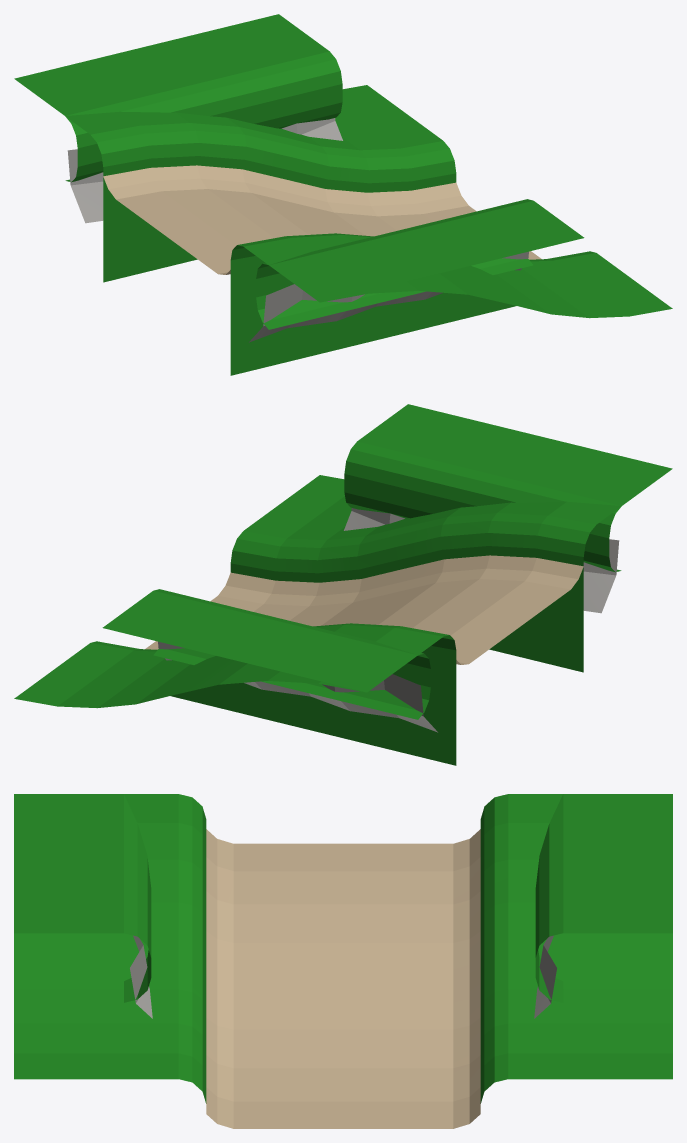
The model's file is Track_Cliff_Incline_Standard_1_Tall_Double.obj.
3 views of the same model, one above another, from view 1: azimuth 30°, elevation 25°; view 2: azimuth 150°, elevation 25°; view 3: azimuth 270°, elevation 25° (orthographic). The views are drawn at different scales.
Parts seen in each view (by area): view 1: Grass, Dirt, Rock; view 2: Grass, Dirt, Rock; view 3: Grass, Dirt, Rock.
Boxes of the visible parts, x1,y1,x2,y2 form: Grass: (14,14,672,375); Dirt: (103,165,541,274); Rock: (67,118,528,342); Grass: (14,404,672,765); Dirt: (145,555,583,664); Rock: (158,508,619,732); Grass: (14,794,672,1103); Dirt: (206,829,480,1128); Rock: (130,935,556,1018).
Bounding box in the file's own units: 4 × 1.5 × 6.
